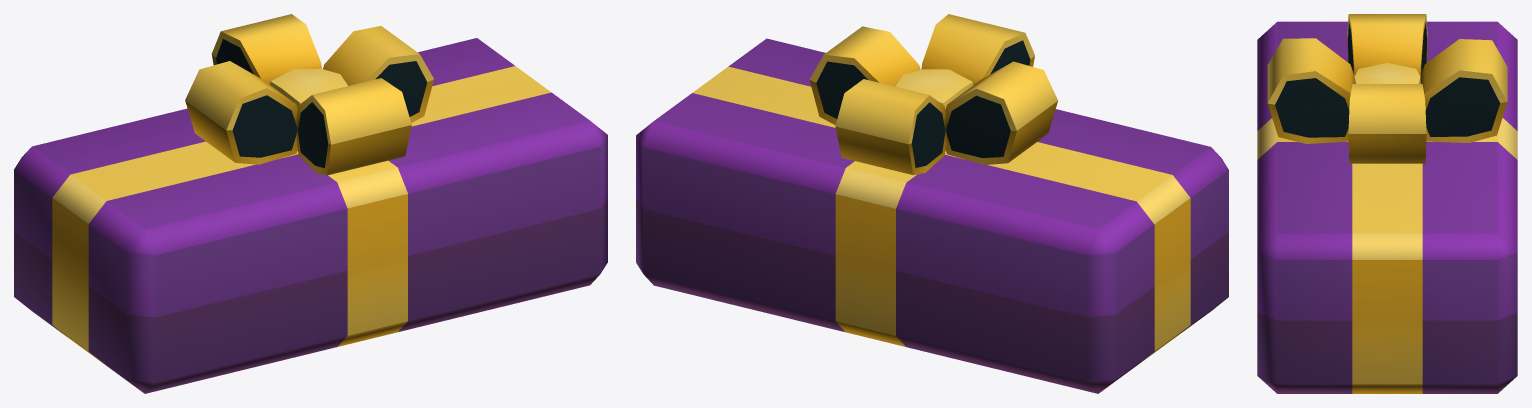
File: presi_square_3_purple.fbx
The picture shows the model from 3 angles, left to right: view 1: azimuth 30°, elevation 25°; view 2: azimuth 150°, elevation 25°; view 3: azimuth 270°, elevation 25°; orthographic projection. The views are drawn at different scales.
Visible parts, largest first — view 1: presi_square_3_purple; view 2: presi_square_3_purple; view 3: presi_square_3_purple.
Boxes of the visible parts, x1,y1,x2,y2 form: presi_square_3_purple: [14, 14, 607, 393]; presi_square_3_purple: [636, 14, 1228, 393]; presi_square_3_purple: [1257, 14, 1517, 393].
Size of the model in its own units: 156 by 74 by 75.
Materials: 1 (1 with a texture image).
